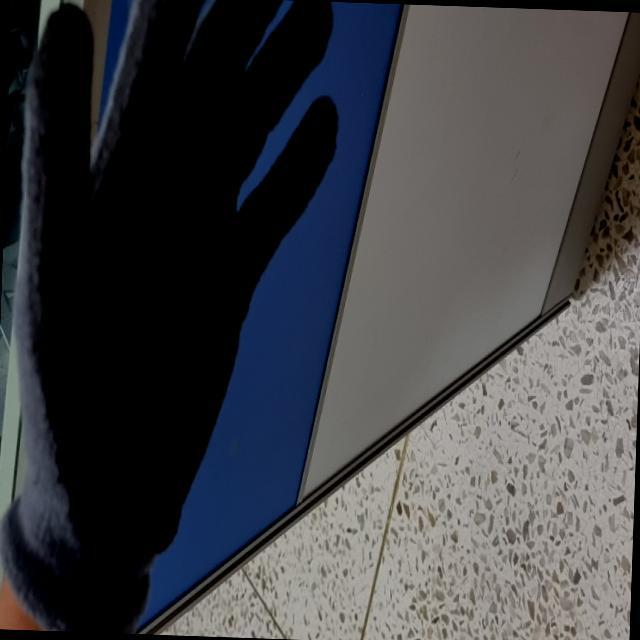Gloves: (2, 2, 336, 640)
